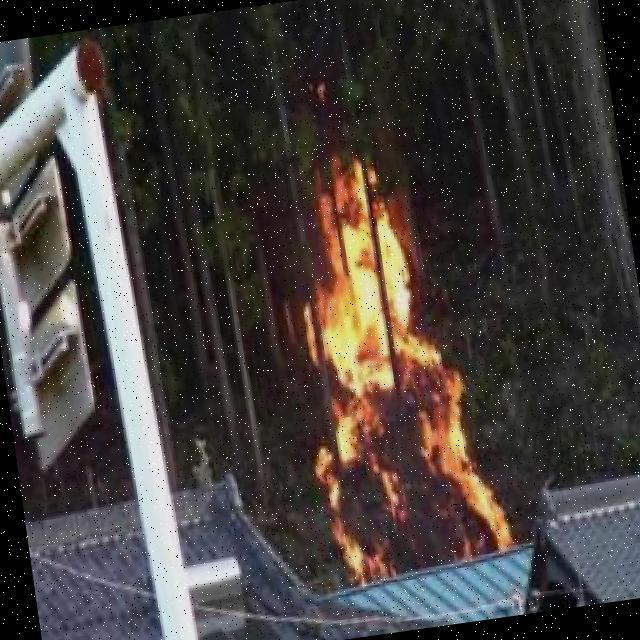Fire: (277, 124, 498, 581)
